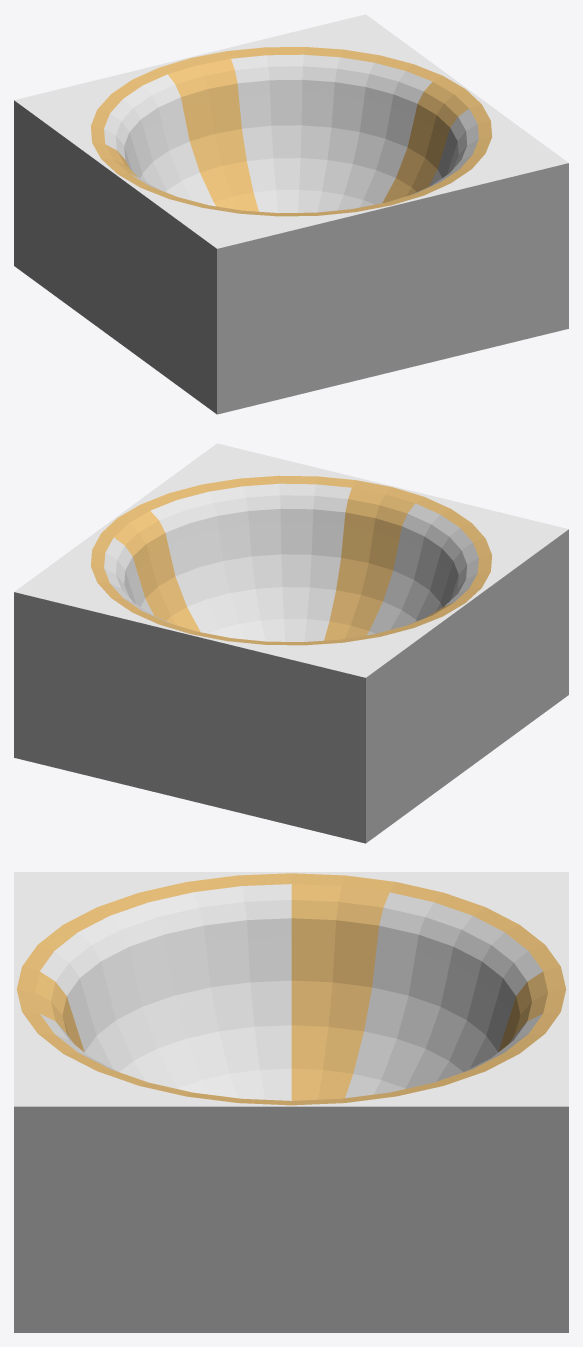
Rendered from RoundHoleCube_40x40x18.fbx.
The picture shows the model from 3 angles, top to bottom: view 1: azimuth 30°, elevation 25°; view 2: azimuth 150°, elevation 25°; view 3: azimuth 270°, elevation 25°; orthographic projection. The views are drawn at different scales.
Parts seen in each view (by area): view 1: RoundHoleCube_40x40x18; view 2: RoundHoleCube_40x40x18; view 3: RoundHoleCube_40x40x18.
Part boxes in pixels (x1,y1,x2,y2): RoundHoleCube_40x40x18: (14,14,568,414); RoundHoleCube_40x40x18: (14,443,568,843); RoundHoleCube_40x40x18: (14,872,568,1332).
Size of the model in its own units: 40 by 18.01 by 40.
